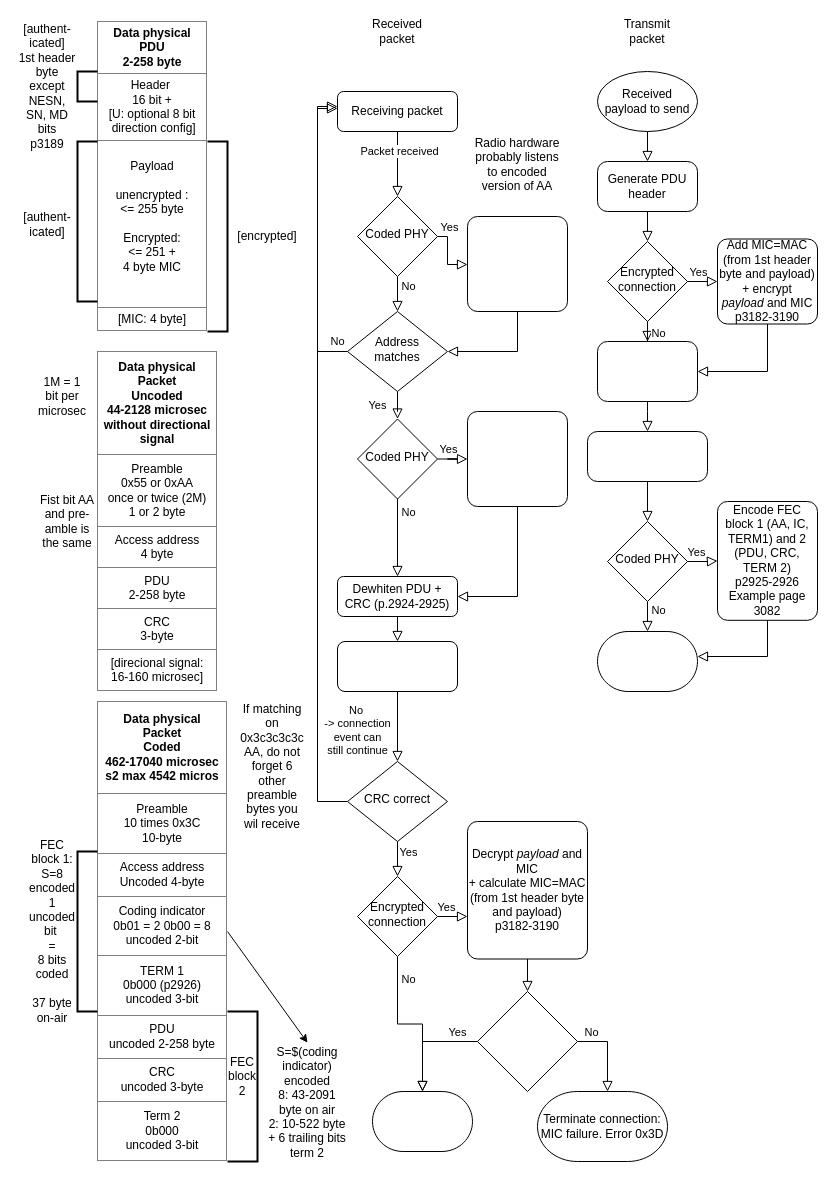
The diagram is 835 pixels wide and 1180 high, and some of its shapes have lost their labels. Each missing label, with the centre of its shape:
Calculate CRC over PDU (incl. header, p2923): [397,666]
Calculate CRC over PDU and append it P.2923. Example P.3089: [647,371]
Decode FEC block 1 (AA, IC, TERM1) with S=8 p2925-2926: [517,264]
Decode FEC block 2 (PDU, CRC, TERM 2) according to IC p2925-2926: [517,458]
MIC correct: [527,1041]
Return PDU: [422,1121]
Send packet: [647,661]
Whiten PDU + CRC (p.2924-2925) Example p3087: [647,456]
